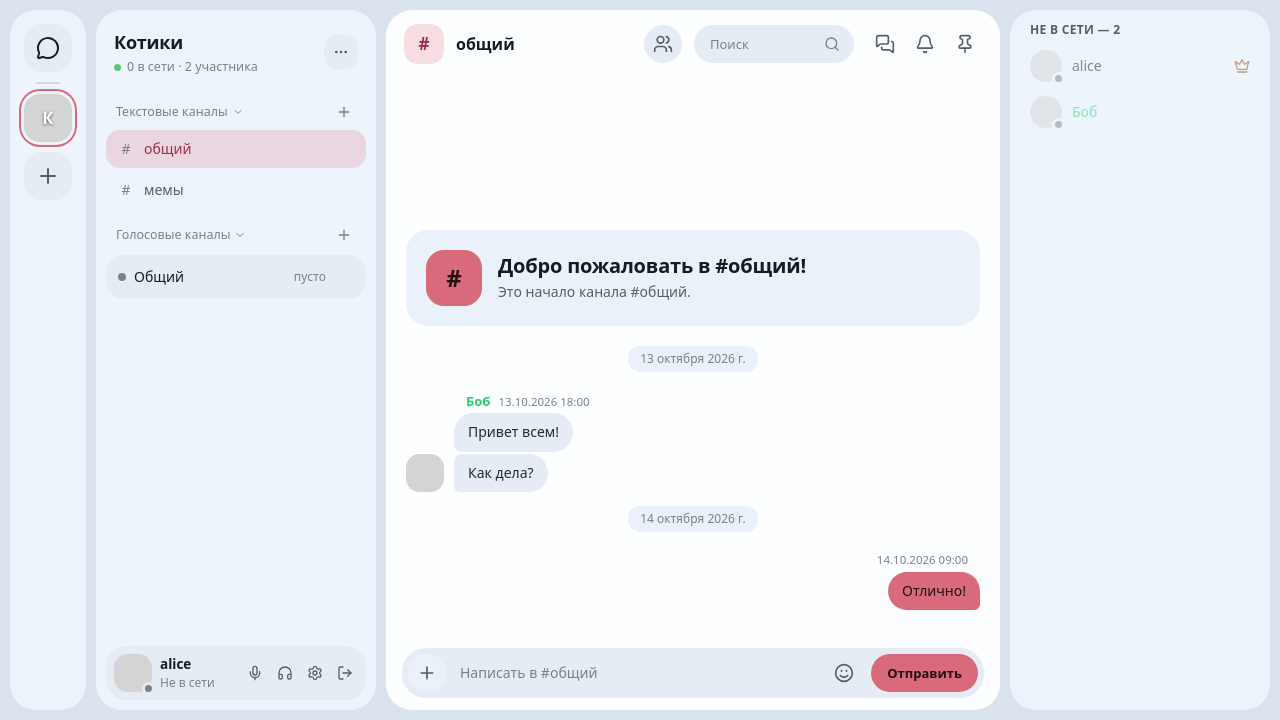
joining voice › connects from the sidebar and opens the channel
The width and height of the screenshot is (1280, 720).
Click the button with aria-label "Голосовой канал Общий" at (210, 277), box [134, 267, 286, 287]
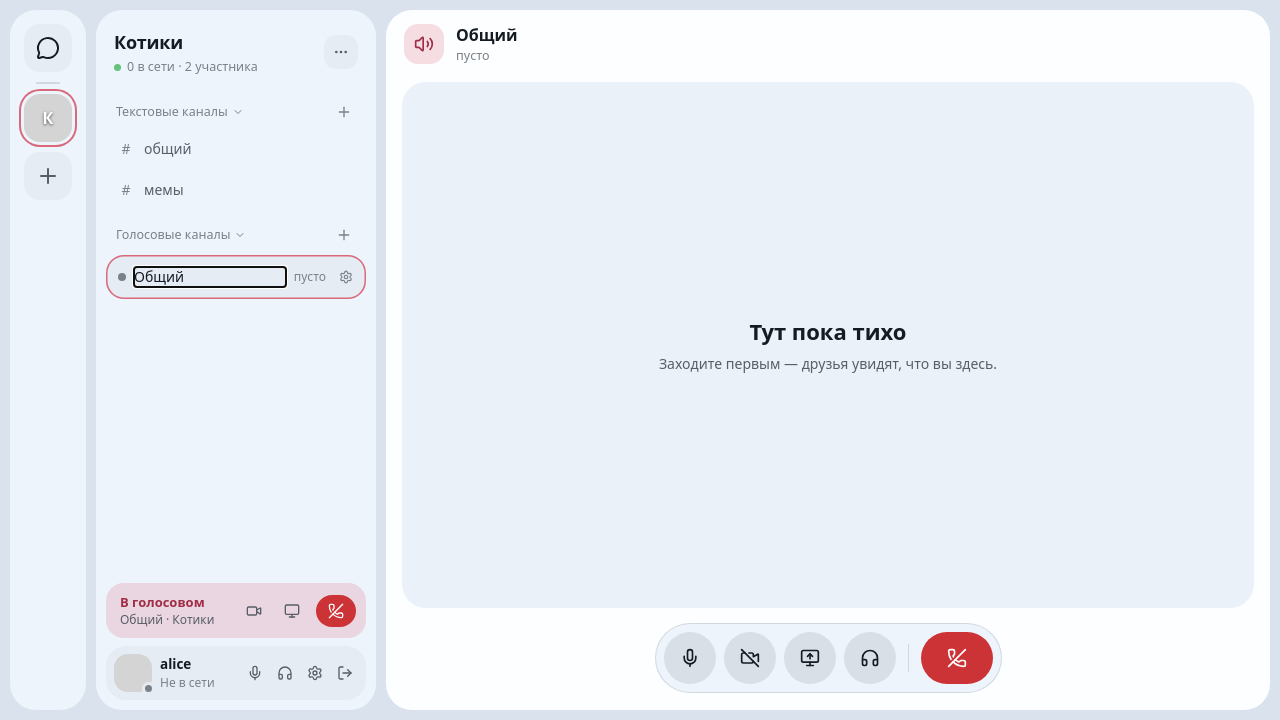
Now the element named "Голосовое подключение" shows "В голосовом", box [120, 593, 205, 611]
Now the element named "Голосовое подключение" shows "Общий", box [120, 611, 214, 628]
